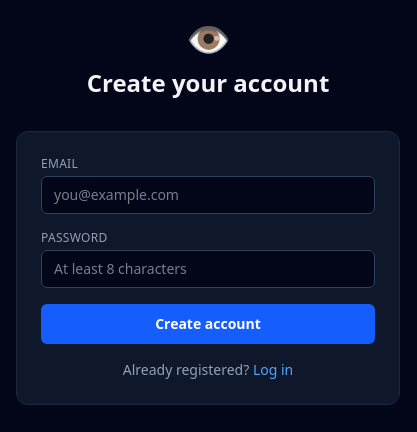
it: RegisterPage › validates the password length client-side
Type "new@example.com" into the field labelled "Email" at (208, 195), box [41,176,375,214]
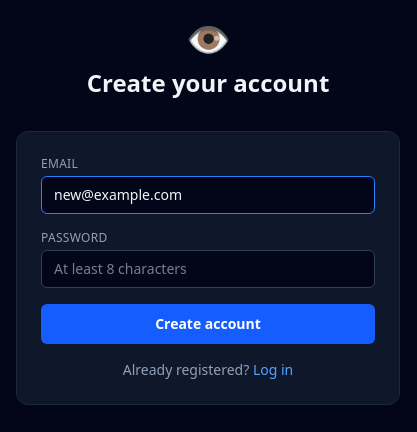
Type "short" into the password field labelled "Password" at (208, 269), box [41,250,375,288]
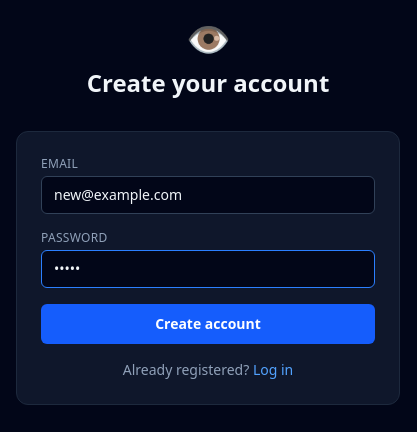
Click the button "Create account" at (208, 324), box [41,304,375,344]
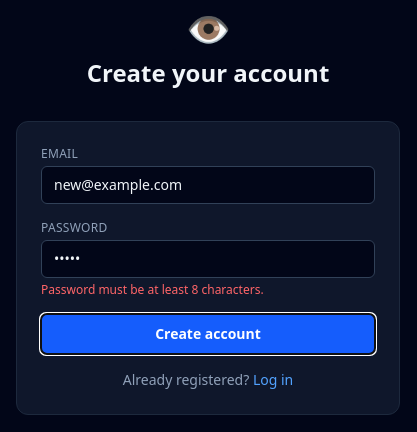
Now the text "Password must be at least 8 characters." is shown, box [41,281,264,298]
